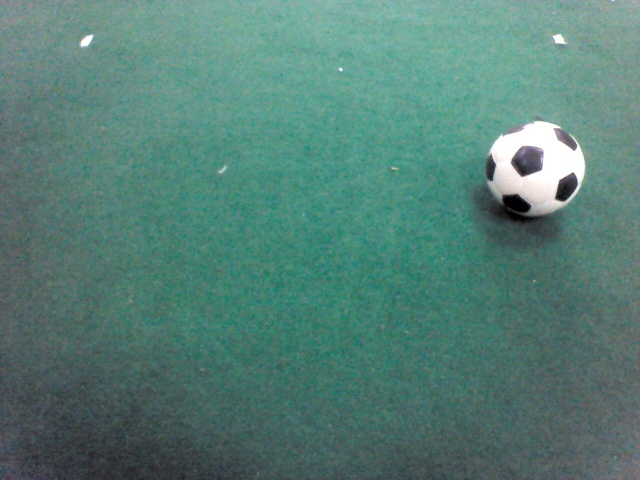ball: (481, 119, 586, 222)
